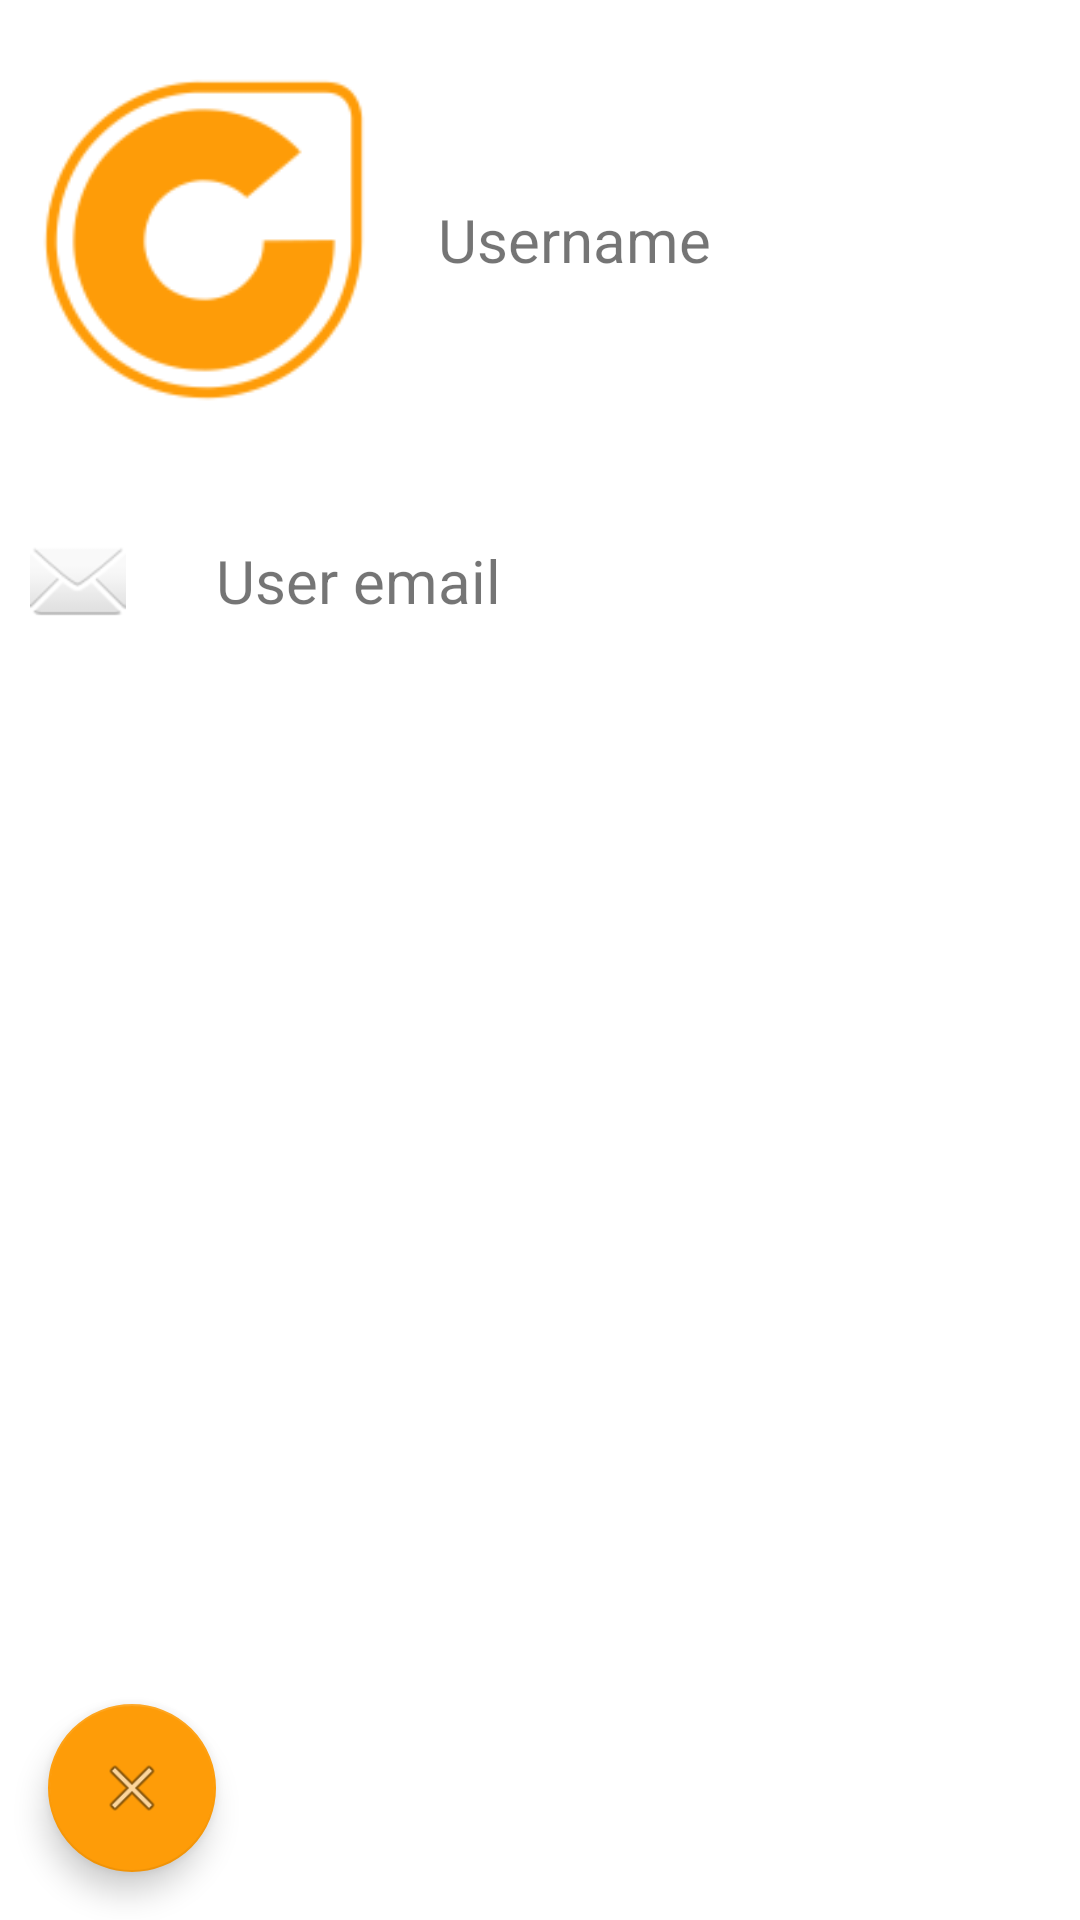

Icon bounding boxes for this 1080px×1920px phone screenshot, format (x1, y1, x2, y2):
close clear cancel: (48, 1704, 216, 1872)
